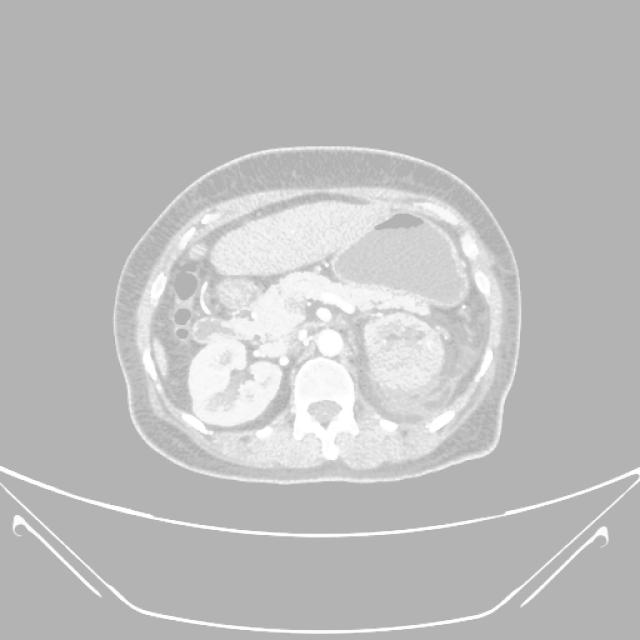TUMOR: (111, 182, 512, 369)
